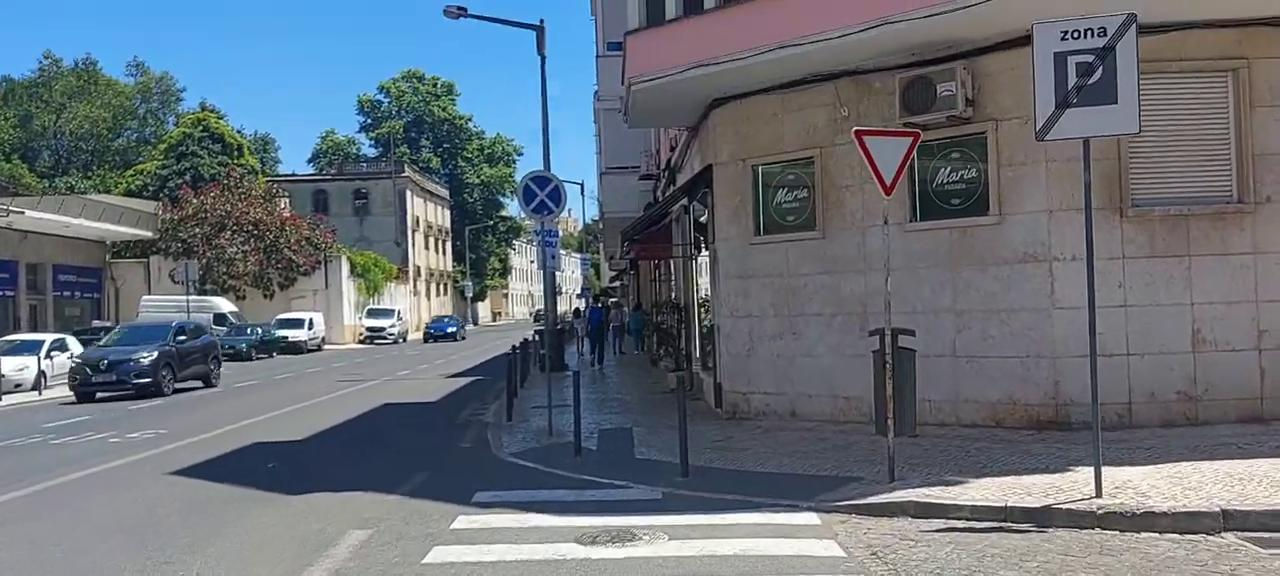cedencia de passagem: (848, 92, 952, 204)
fim de zona de estacionamento autorizado: (1031, 13, 1140, 141)
paragem e estacionamento proibido: (516, 168, 572, 223)
